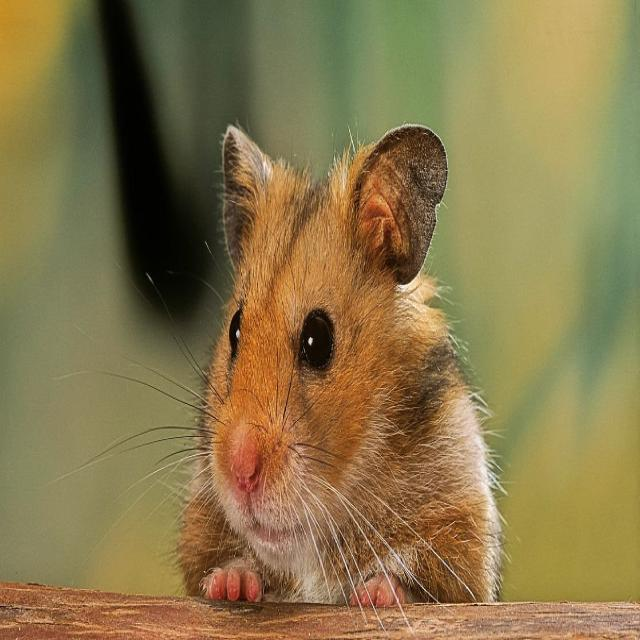hamster: (189, 164, 507, 609)
